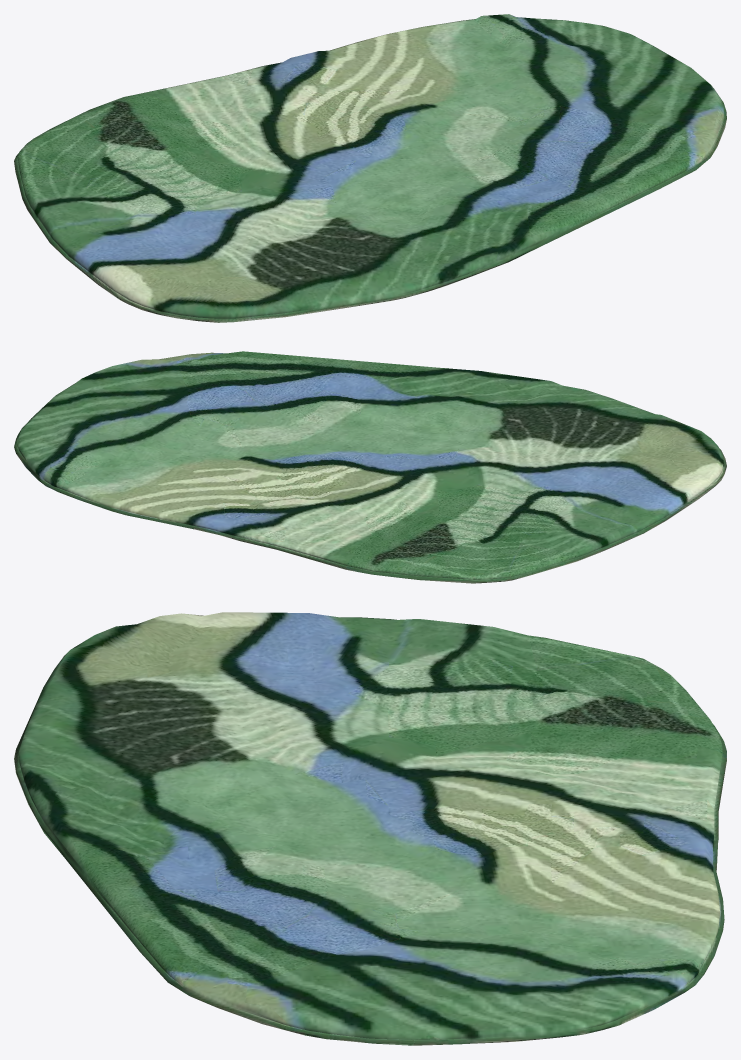
3 views of the same model, one above another, from view 1: azimuth 30°, elevation 25°; view 2: azimuth 150°, elevation 25°; view 3: azimuth 270°, elevation 25° (orthographic). The views are drawn at different scales.
Parts seen in each view (by area): view 1: 00602001-GREJSIMOJS001; view 2: 00602001-GREJSIMOJS001; view 3: 00602001-GREJSIMOJS001.
Boxes of the visible parts, <box> form: 00602001-GREJSIMOJS001: <box>14,14,726,322</box>; 00602001-GREJSIMOJS001: <box>14,351,726,583</box>; 00602001-GREJSIMOJS001: <box>14,612,726,1045</box>.
Bounding box in the file's own units: 2.14 × 0.0335 × 1.52.
1 material, 1 textured.
